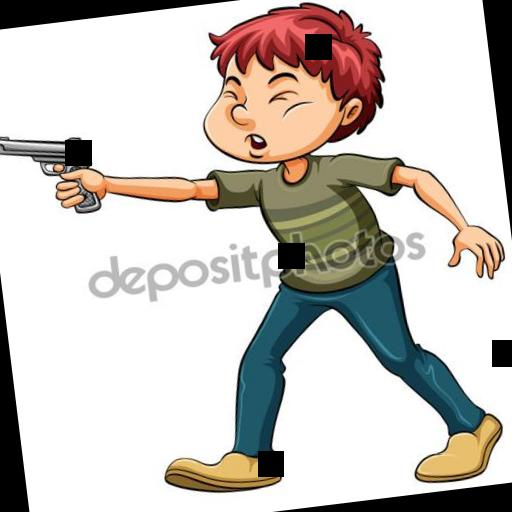Handgun: (0, 121, 107, 226)
